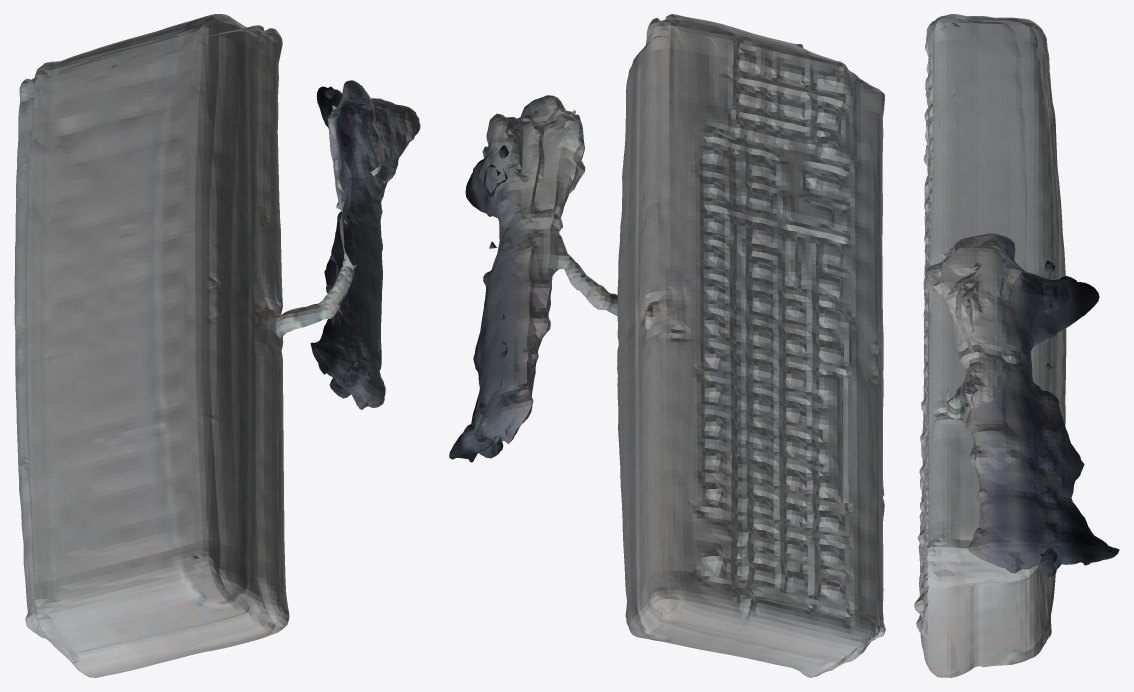
3 views of the same model, side by side, from view 1: azimuth 30°, elevation 25°; view 2: azimuth 150°, elevation 25°; view 3: azimuth 270°, elevation 25° (orthographic). The views are drawn at different scales.
Visible parts, largest first — view 1: world; view 2: world; view 3: world.
Part boxes in pixels (x1,y1,x2,y2): world: (14, 14, 420, 677); world: (449, 14, 885, 677); world: (914, 14, 1119, 677).
Size of the model in its own units: 0.6281 by 0.9709 by 0.3037.
